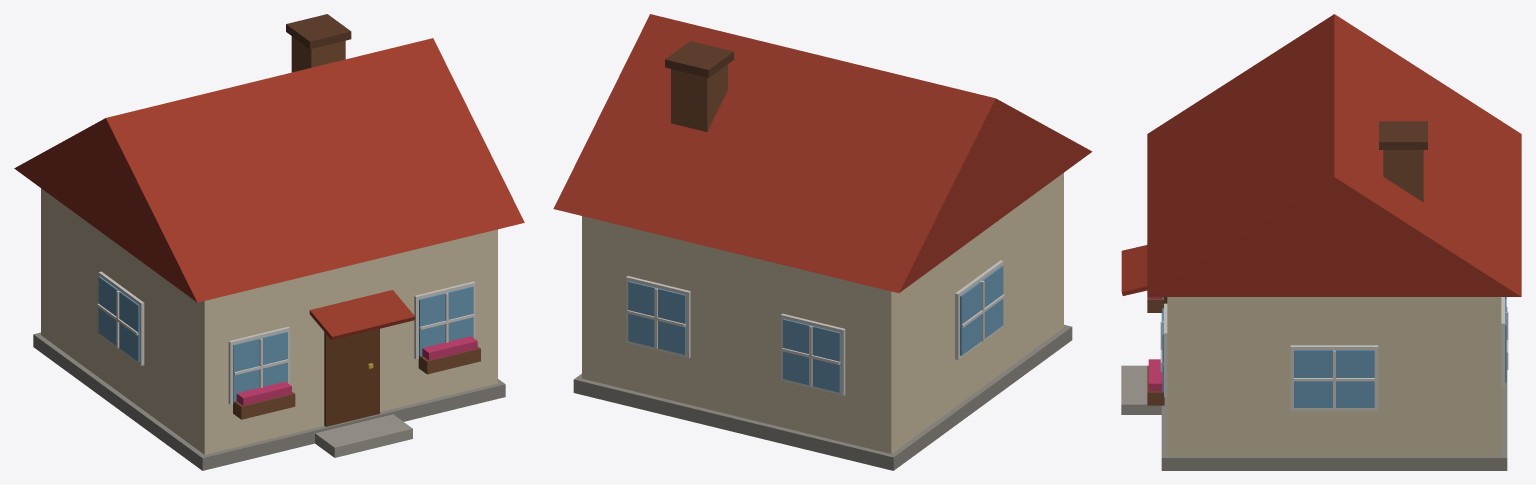
Rendered from house.glb.
3 views of the same model, side by side, from view 1: azimuth 30°, elevation 25°; view 2: azimuth 150°, elevation 25°; view 3: azimuth 270°, elevation 25° (orthographic). The views are drawn at different scales.
Visible parts, largest first — view 1: gh_house; view 2: gh_house; view 3: gh_house.
Part boxes in pixels (x1,y1,x2,y2): gh_house: (14,14,524,470); gh_house: (553,14,1092,470); gh_house: (1121,14,1521,470).
Bounding box in the file's own units: 6.7 × 5.85 × 6.95.
